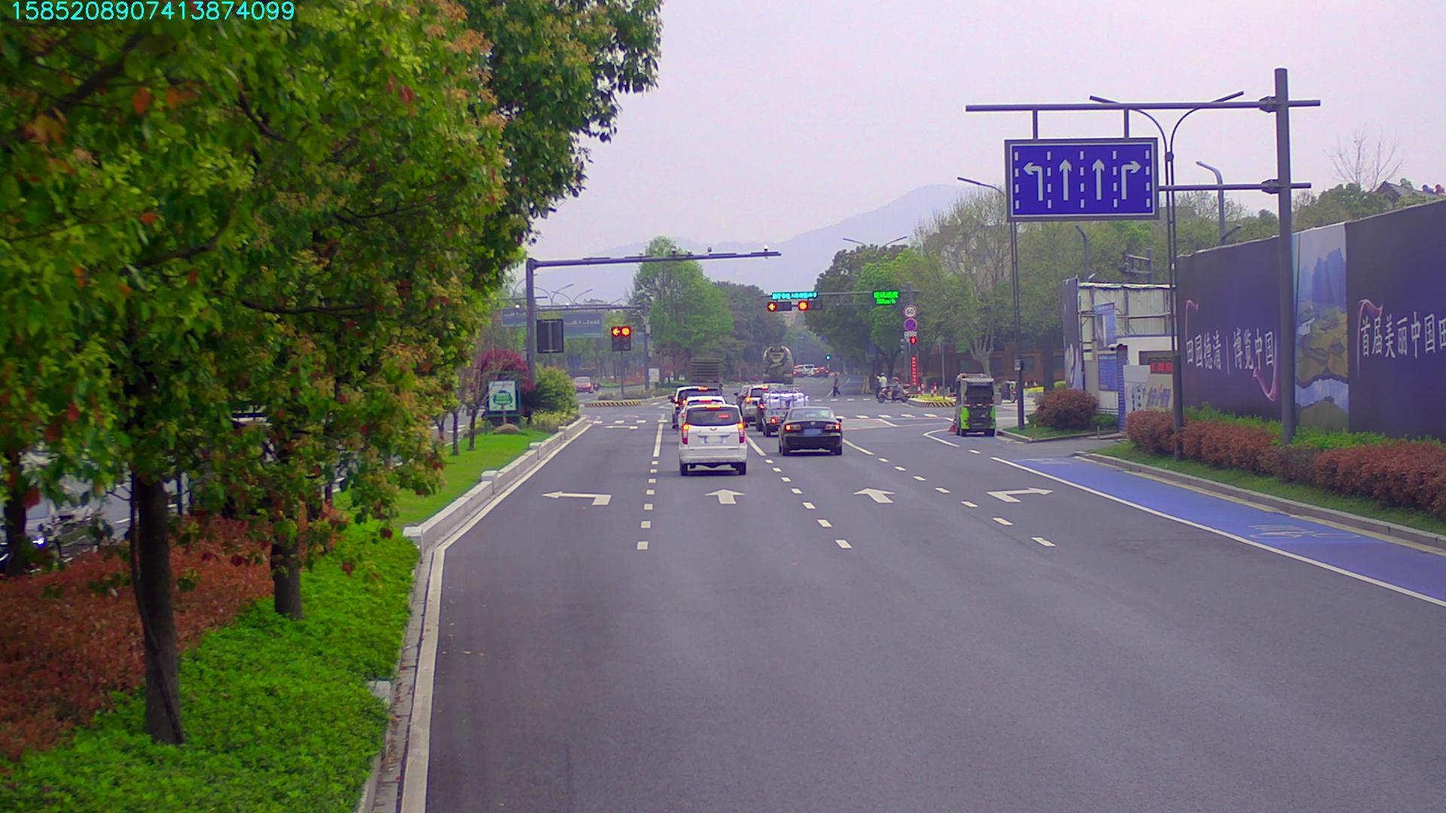red: (764, 300, 789, 311), (795, 300, 820, 308)
wait_on: (770, 290, 817, 299)
